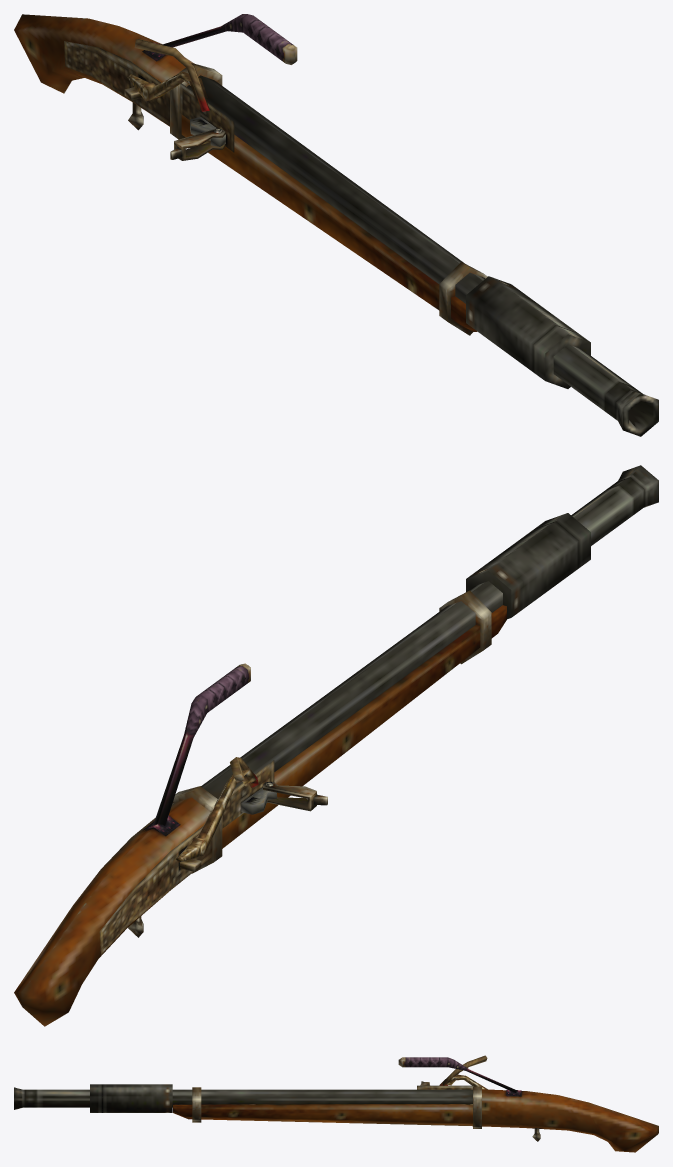
The model's file is we115_amh.OBJ.
3 views of the same model, one above another, from view 1: azimuth 30°, elevation 25°; view 2: azimuth 150°, elevation 25°; view 3: azimuth 270°, elevation 25° (orthographic). The views are drawn at different scales.
Parts seen in each view (by area): view 1: mesh_0; view 2: mesh_0; view 3: mesh_0.
Boxes of the visible parts, left/top/right/bottom form: mesh_0: left=14, top=14, right=658, bottom=436; mesh_0: left=14, top=465, right=658, bottom=1026; mesh_0: left=14, top=1055, right=658, bottom=1152.
Bounding box in the file's own units: 18.86 × 32.56 × 188.
3 materials, 3 textured.
